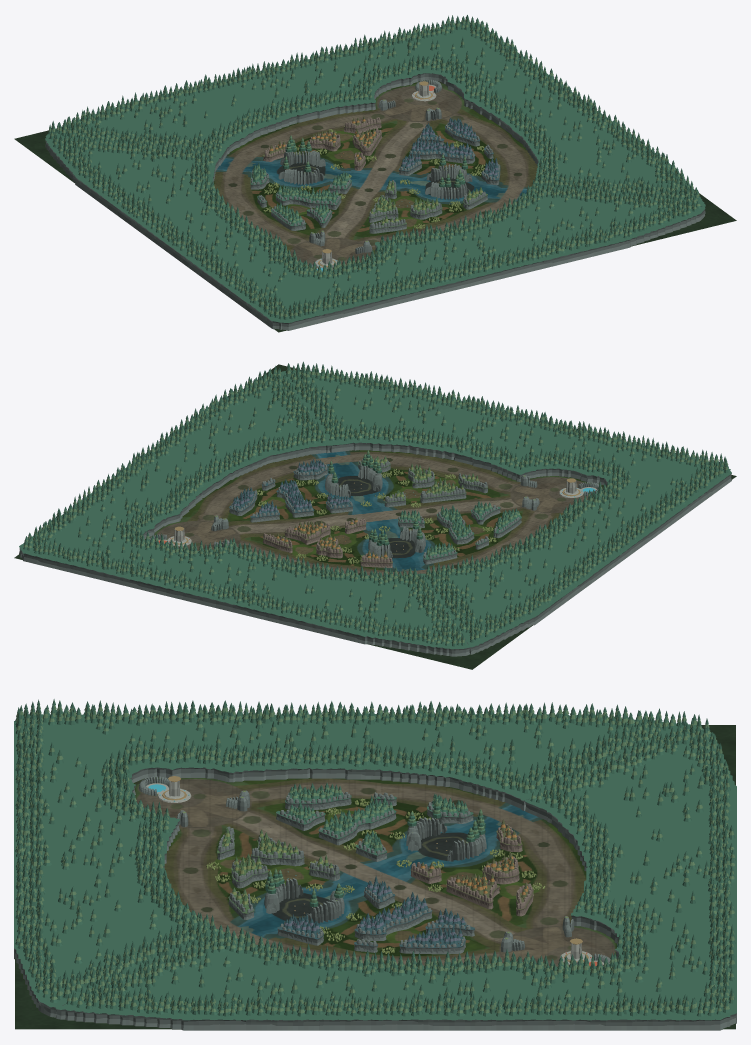
The model's file is esmo-rift.glb.
3 views of the same model, one above another, from view 1: azimuth 30°, elevation 25°; view 2: azimuth 150°, elevation 25°; view 3: azimuth 270°, elevation 25° (orthographic). The views are drawn at different scales.
Visible parts, largest first — view 1: Rift_Ground, Rift_pine_(1, 2), Rift_pine_(2, 1), Rift_rock_(1, 2), Rift_pine_(3, 3), Rift_pine_(0, 0), Rift_rock_(2, 1), Rift_pine_(0, 3), Rift_pine_(3, 0), Rift_pine_(1, 3), Rift_pine_(2, 3), Rift_pine_(2, 0) (+24 smaller); view 2: Rift_Ground, Rift_pine_(1, 2), Rift_pine_(2, 1), Rift_rock_(1, 2), Rift_rock_(2, 1), Rift_pine_(0, 0), Rift_pine_(3, 3), Rift_pine_(3, 0), Rift_pine_(0, 3), Rift_pine_(1, 3), Rift_pine_(2, 3), Rift_pine_(2, 0) (+27 smaller); view 3: Rift_Ground, Rift_pine_(1, 2), Rift_pine_(2, 1), Rift_rock_(2, 1), Rift_rock_(1, 2), Rift_pine_(3, 3), Rift_pine_(0, 0), Rift_pine_(3, 0), Rift_pine_(3, 2), Rift_pine_(0, 3), Rift_pine_(0, 1), Rift_pine_(0, 2) (+32 smaller).
Part boxes in pixels (x1=…): Rift_Ground: x1=14, y1=80, x2=736, y2=332; Rift_pine_(1, 2): x1=45, y1=138, x2=705, y2=322; Rift_pine_(2, 1): x1=45, y1=22, x2=705, y2=206; Rift_rock_(1, 2): x1=45, y1=141, x2=704, y2=330; Rift_pine_(3, 3): x1=555, y1=158, x2=701, y2=238; Rift_pine_(0, 0): x1=48, y1=95, x2=193, y2=175; Rift_rock_(2, 1): x1=45, y1=73, x2=705, y2=213; Rift_pine_(0, 3): x1=215, y1=248, x2=389, y2=319; Rift_pine_(3, 0): x1=362, y1=15, x2=533, y2=83; Rift_pine_(1, 3): x1=351, y1=220, x2=502, y2=294; Rift_pine_(2, 3): x1=457, y1=183, x2=618, y2=266; Rift_pine_(2, 0): x1=246, y1=38, x2=397, y2=112; Rift_Ground: x1=14, y1=364, x2=736, y2=669; Rift_pine_(1, 2): x1=281, y1=370, x2=731, y2=647; Rift_pine_(2, 1): x1=19, y1=374, x2=469, y2=649; Rift_rock_(1, 2): x1=282, y1=375, x2=731, y2=654; Rift_rock_(2, 1): x1=19, y1=445, x2=469, y2=656; Rift_pine_(0, 0): x1=359, y1=576, x2=533, y2=646; Rift_pine_(3, 3): x1=220, y1=361, x2=389, y2=428; Rift_pine_(3, 0): x1=23, y1=493, x2=169, y2=574; Rift_pine_(0, 3): x1=582, y1=431, x2=728, y2=513; Rift_pine_(1, 3): x1=456, y1=405, x2=619, y2=469; Rift_pine_(2, 3): x1=329, y1=377, x2=504, y2=447; Rift_pine_(2, 0): x1=130, y1=537, x2=295, y2=603; Rift_Ground: x1=15, y1=725, x2=735, y2=1029; Rift_pine_(1, 2): x1=14, y1=714, x2=690, y2=1007; Rift_pine_(2, 1): x1=55, y1=728, x2=736, y2=1020; Rift_rock_(2, 1): x1=56, y1=754, x2=736, y2=1030; Rift_rock_(1, 2): x1=14, y1=734, x2=675, y2=1017; Rift_pine_(3, 3): x1=15, y1=928, x2=197, y2=1014; Rift_pine_(0, 0): x1=554, y1=703, x2=730, y2=789; Rift_pine_(3, 0): x1=555, y1=929, x2=735, y2=1016; Rift_pine_(3, 2): x1=192, y1=927, x2=377, y2=1016; Rift_pine_(0, 3): x1=15, y1=699, x2=196, y2=788; Rift_pine_(0, 1): x1=373, y1=701, x2=556, y2=789; Rift_pine_(0, 2): x1=195, y1=700, x2=375, y2=767.
Bounding box in the file's own units: 331 × 19.53 × 331.
18 materials, 1 textured.
